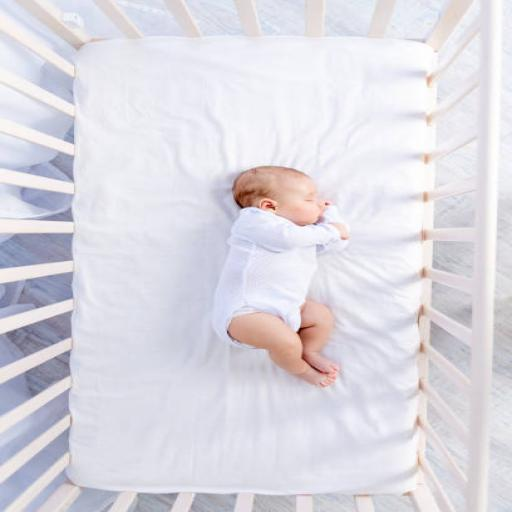baby: (213, 166, 350, 386)
crib: (408, 0, 500, 511)
